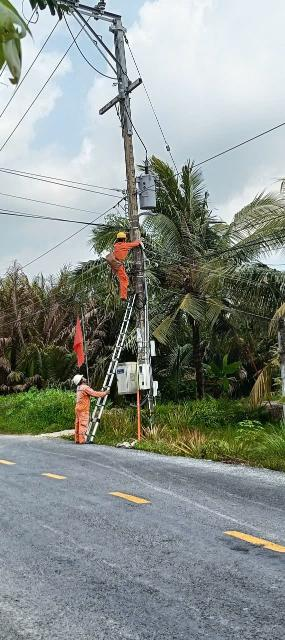gloves: (138, 237, 146, 243)
harness: (113, 255, 129, 265)
helmet: (114, 228, 129, 241), (71, 373, 88, 384)
shoes: (121, 295, 134, 303), (81, 440, 91, 444), (125, 291, 134, 295)
